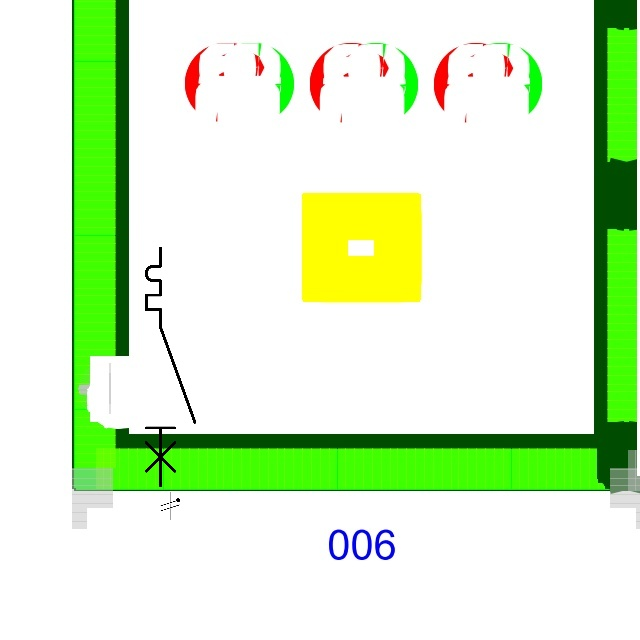interruptor_termomagnetico: (140, 242, 201, 491)
